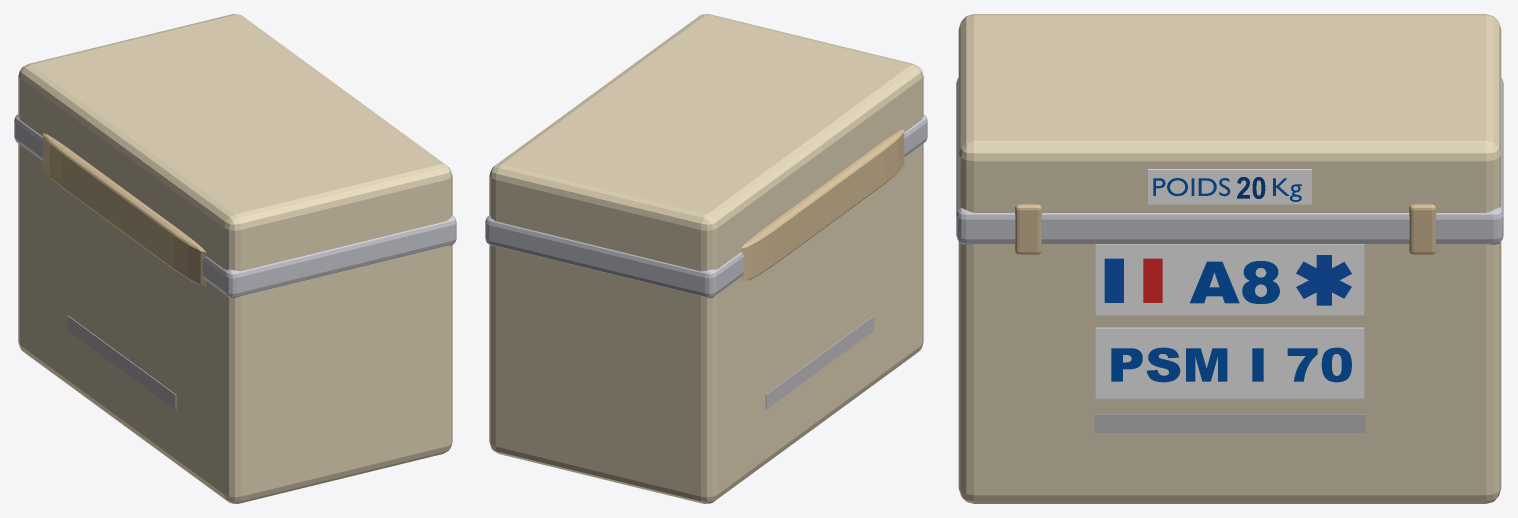
File: MalleA8.fbx
3 views of the same model, side by side, from view 1: azimuth 30°, elevation 25°; view 2: azimuth 150°, elevation 25°; view 3: azimuth 270°, elevation 25° (orthographic). The views are drawn at different scales.
Parts seen in each view (by area): view 1: Malle_PSM, Anneau, Loquet.002, Bande_Rouge; view 2: Malle_PSM, Anneau, Loquet.002, Bande_Rouge; view 3: Malle_PSM, Anneau, Etiquette_PSM, Etiquette_A3.001, Bande_Rouge, Etiquette_A3, Texte_PSM, Drabeau Blanc, Texte_A3, Samu, Loquet, Loquet.001 (+1 smaller).
Boxes of the visible parts, bbox=[...] form: Malle_PSM: bbox=[18, 14, 452, 503]; Anneau: bbox=[14, 114, 456, 298]; Loquet.002: bbox=[43, 133, 206, 285]; Bande_Rouge: bbox=[67, 315, 176, 409]; Malle_PSM: bbox=[489, 14, 923, 503]; Anneau: bbox=[485, 114, 927, 298]; Loquet.002: bbox=[741, 129, 904, 281]; Bande_Rouge: bbox=[765, 315, 874, 409]; Malle_PSM: bbox=[958, 14, 1501, 503]; Anneau: bbox=[956, 78, 1503, 244]; Etiquette_PSM: bbox=[1095, 327, 1364, 398]; Etiquette_A3.001: bbox=[1095, 244, 1364, 315]; Bande_Rouge: bbox=[1094, 414, 1365, 432]; Etiquette_A3: bbox=[1148, 169, 1311, 204]; Texte_PSM: bbox=[1111, 347, 1351, 382]; Drabeau Blanc: bbox=[1104, 258, 1162, 302]; Texte_A3: bbox=[1190, 261, 1279, 303]; Samu: bbox=[1296, 255, 1351, 305]; Loquet: bbox=[1409, 204, 1436, 254]; Loquet.001: bbox=[1015, 204, 1041, 254].
Bounding box in the file's own units: 33.45 × 39 × 53.5.
